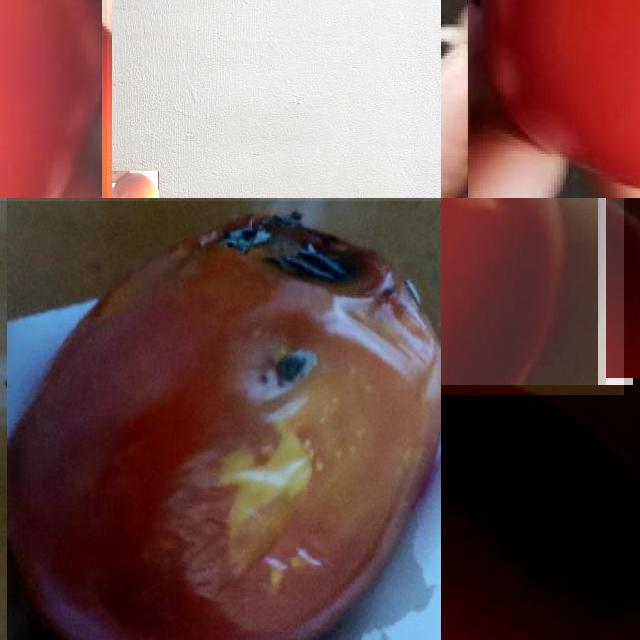Fresh Tomato: (441, 385, 640, 640), (441, 198, 624, 395), (467, 0, 640, 198), (0, 0, 107, 198)
Rotten Tomato: (0, 201, 441, 640), (111, 171, 158, 198)
